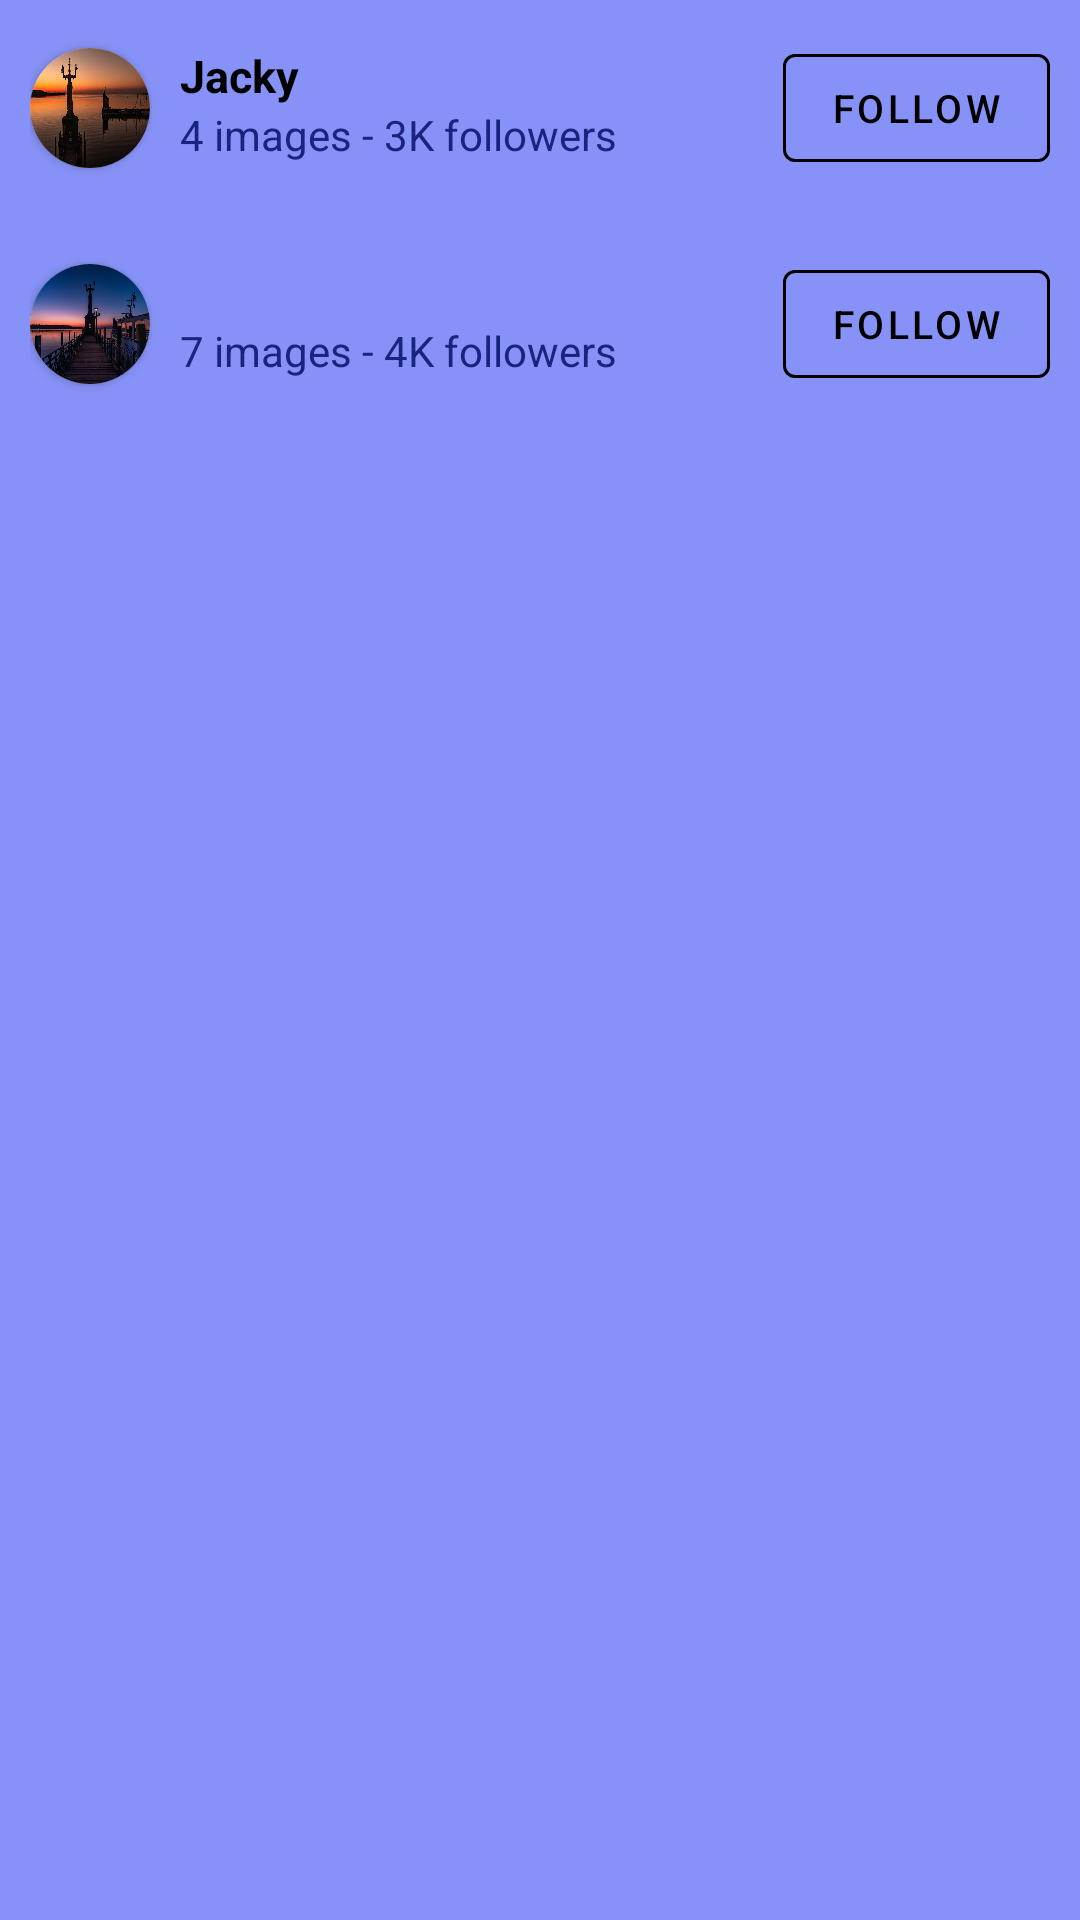

Icons on this 1080 × 1920 Android screen, each with its box as (x1, y1, x2, y2):
photo: (30, 48, 150, 168), (30, 264, 150, 384)
